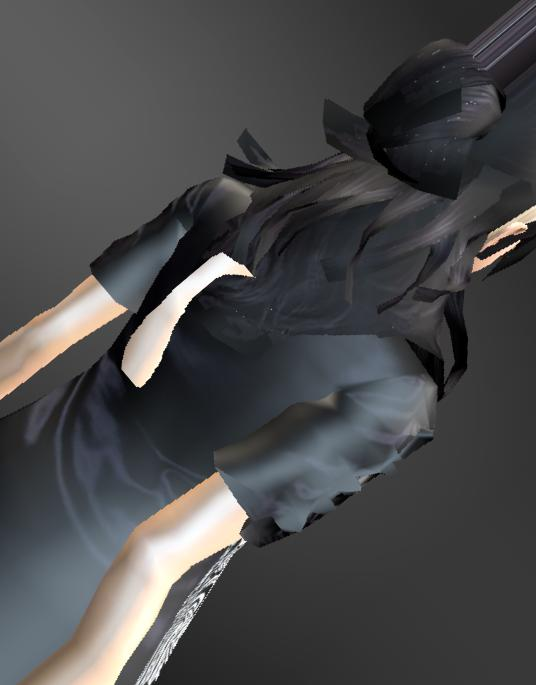clip: (188, 254, 251, 290)
